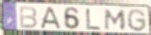6: (63, 7, 81, 31)
A: (38, 7, 63, 30)
B: (18, 6, 38, 30)
G: (127, 8, 148, 33)
L: (85, 8, 102, 31)
M: (104, 9, 127, 31)
